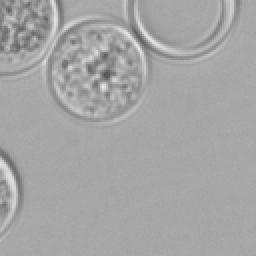picoshell: (42, 18, 148, 124), (124, 0, 238, 60), (0, 148, 20, 240)
